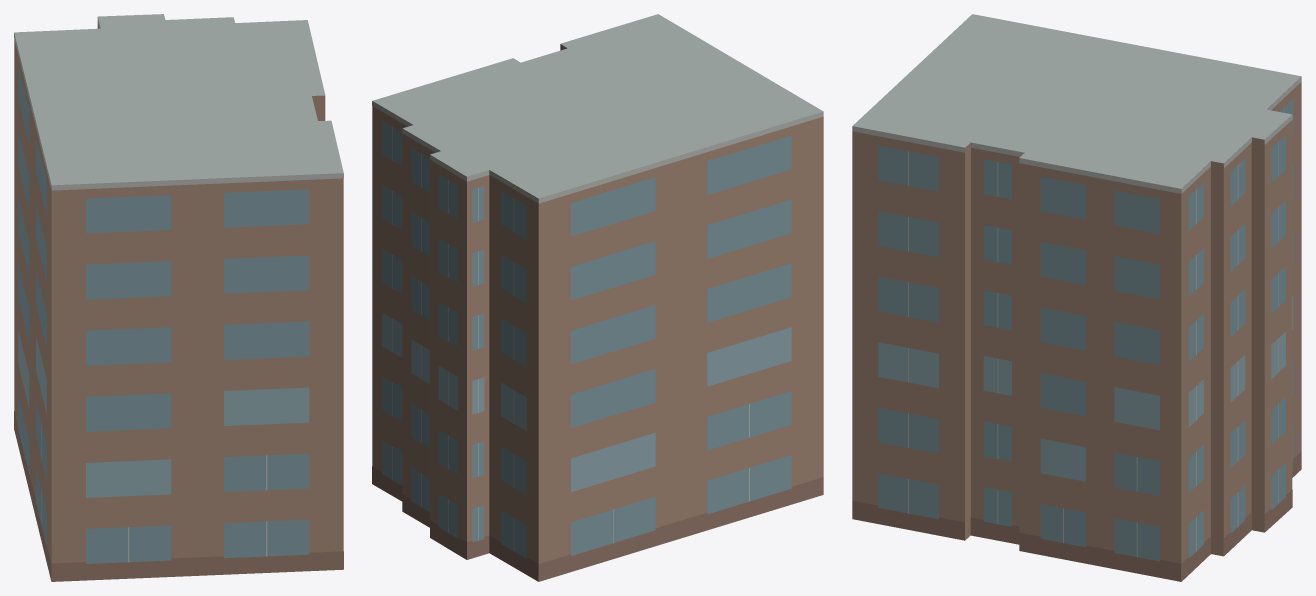
The model's file is survey-upis-32983469.glb.
3 renders of one model, left to right at view 1: azimuth 30°, elevation 25°; view 2: azimuth 150°, elevation 25°; view 3: azimuth 270°, elevation 25°, orthographic. The views are drawn at different scales.
Parts seen in each view (by area): view 1: survey-upis-32983469.tmp; view 2: survey-upis-32983469.tmp; view 3: survey-upis-32983469.tmp.
Part boxes in pixels (<box>): survey-upis-32983469.tmp: <box>14,14,343,581</box>; survey-upis-32983469.tmp: <box>372,14,823,581</box>; survey-upis-32983469.tmp: <box>852,14,1301,581</box>.
Bounding box in the file's own units: 17.76 × 18.6 × 19.28.
